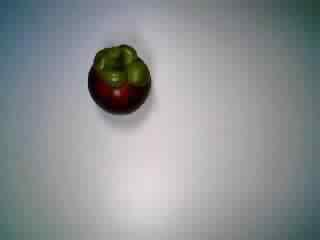mangosteen: (80, 41, 155, 118)
